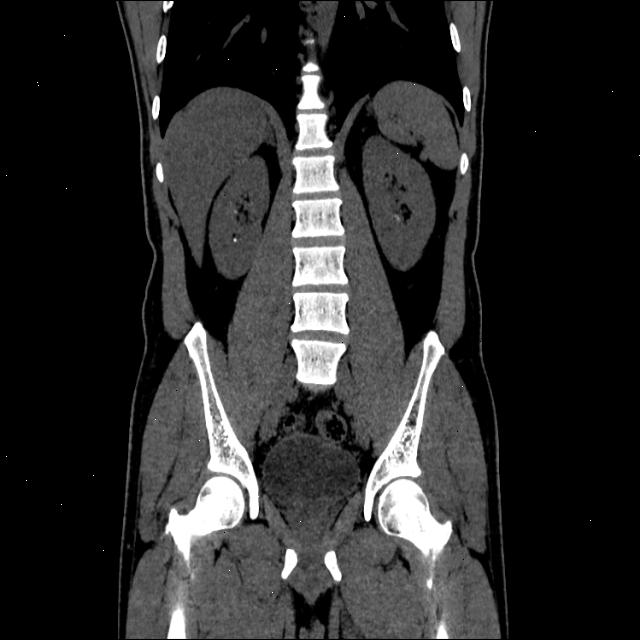kidneystone: (232, 234, 238, 242)
